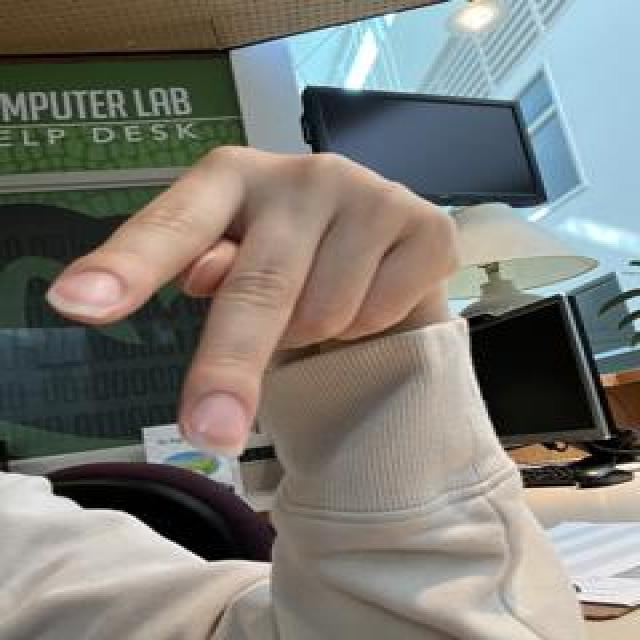P: (38, 139, 470, 463)
